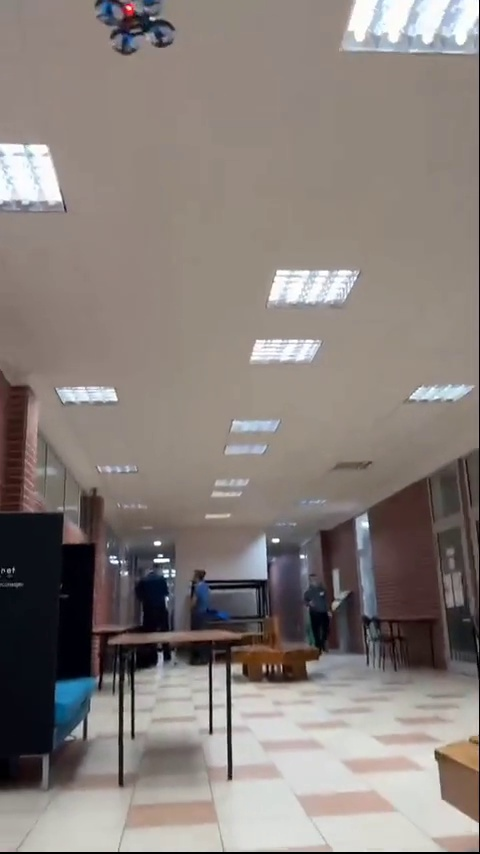drone: (98, 0, 180, 63)
no vest: (138, 562, 182, 659), (298, 569, 340, 653), (188, 565, 224, 631)
